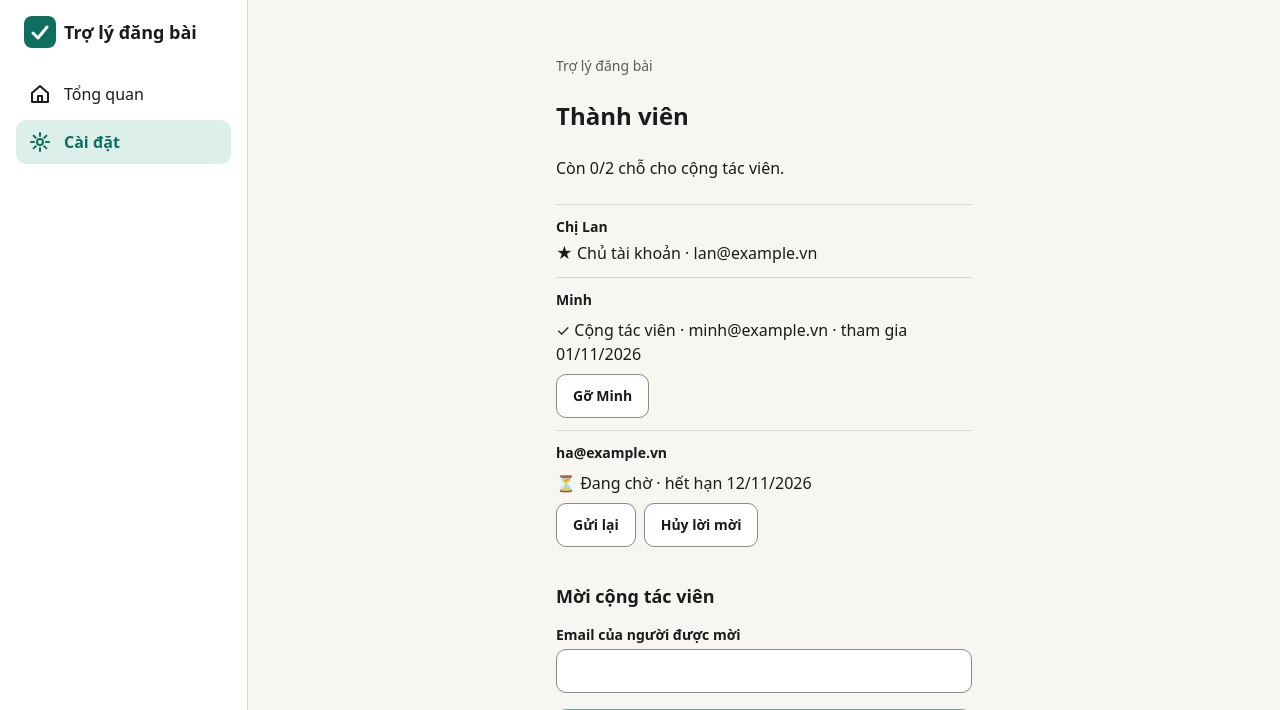
Test: MembersPage › gỡ: hộp xác nhận nêu hệ quả; xác nhận → DELETE /members/{userId}
The width and height of the screenshot is (1280, 710).
Step 1. Click the button "Gỡ Minh" → x=603, y=396, box x1=556 y1=374 x2=649 y2=418
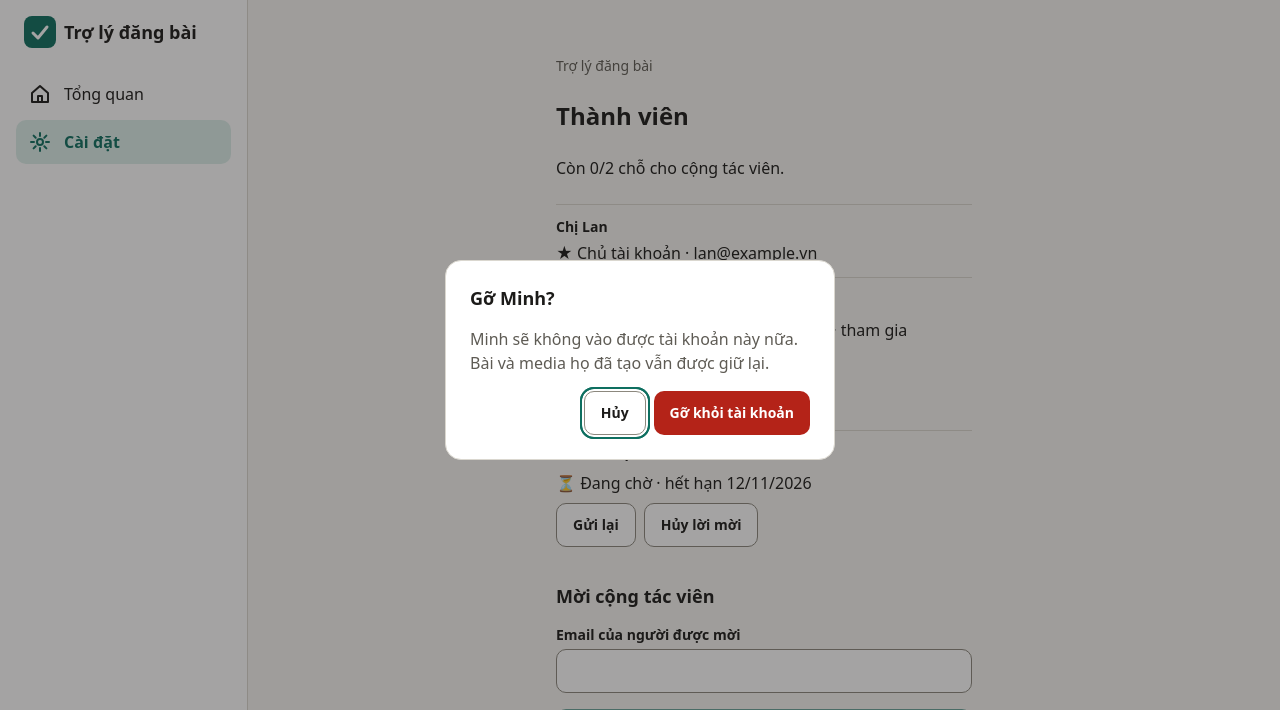
Check: the text "Minh sẽ không vào được tài khoản này nữa. Bài và media họ đã tạo vẫn được giữ lại." is shown, box x1=470 y1=328 x2=798 y2=374
Step 2. Click the button "Gỡ khỏi tài khoản" → x=732, y=413, box x1=654 y1=391 x2=810 y2=435
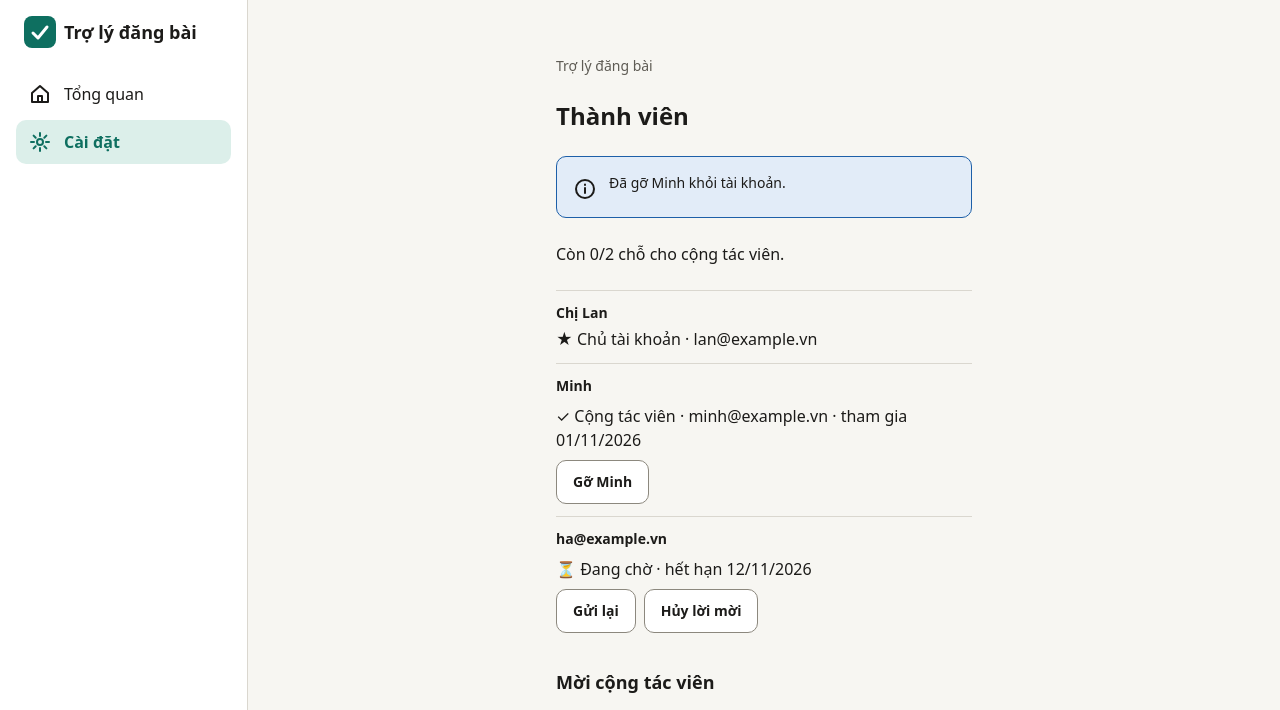
Check: the text "Đã gỡ Minh khỏi tài khoản." is shown, box x1=609 y1=173 x2=786 y2=192
